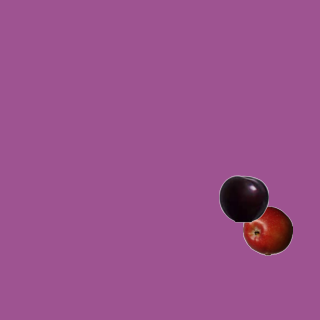Apple Braeburn: (242, 205, 292, 255)
Cherry Wax Black: (218, 173, 268, 223)
